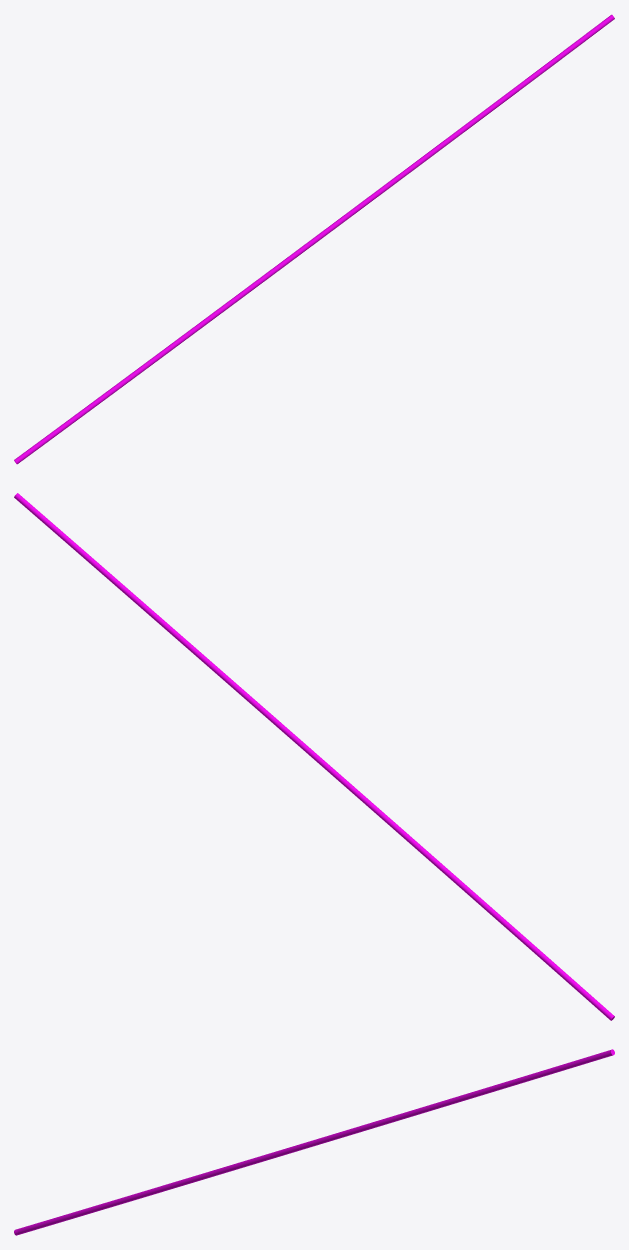
The model's file is Event_108764385_electron_0.fbx.
3 renders of one model, top to bottom at view 1: azimuth 30°, elevation 25°; view 2: azimuth 150°, elevation 25°; view 3: azimuth 330°, elevation 25°, orthographic. The views are drawn at different scales.
Parts seen in each view (by area): view 1: Model; view 2: Model; view 3: Model.
Boxes of the visible parts, <box> form: Model: <box>14,14,614,464</box>; Model: <box>14,493,614,1020</box>; Model: <box>14,1049,614,1235</box>.
Bounding box in the file's own units: 4.8 × 2.61 × 0.3917.
